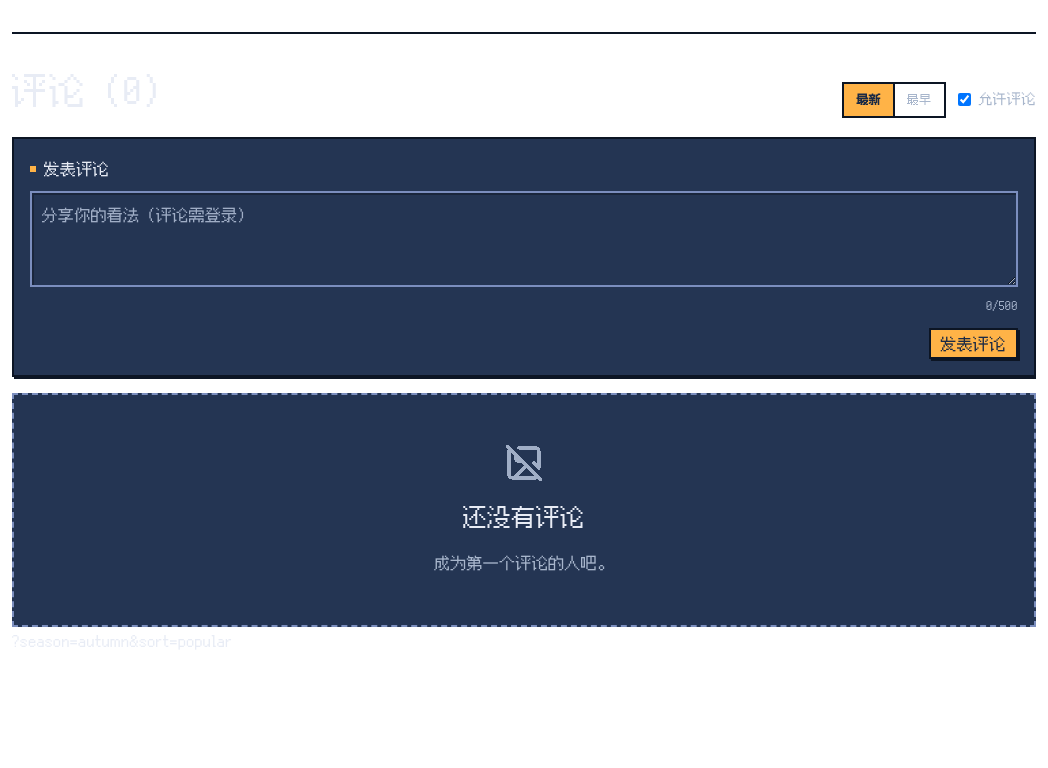
Test: 作者开关 › 开关失败时把后端文案显示出来（乐观更新已回滚，这里补一句解释）
Click the checkbox labelled "允许评论". click: (964, 100)
box: top-left (958, 93), bottom-right (971, 106)
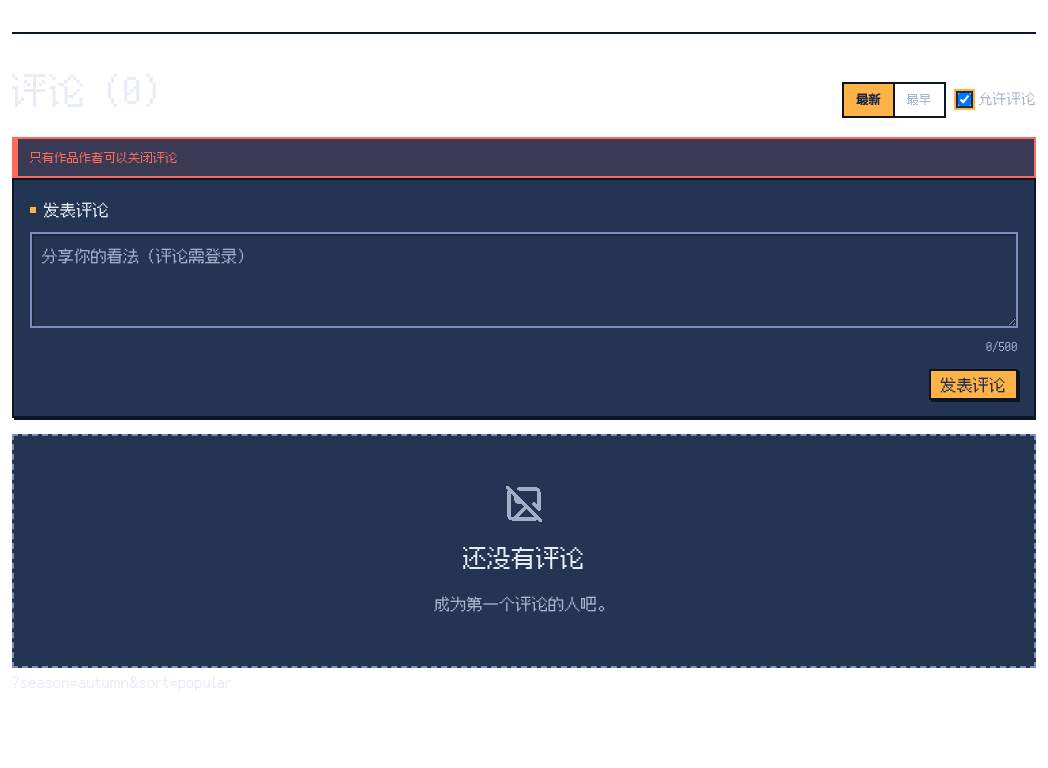
Expected: the message "只有作品作者可以关闭评论" is shown, top-left (12, 137), bottom-right (1036, 178)
